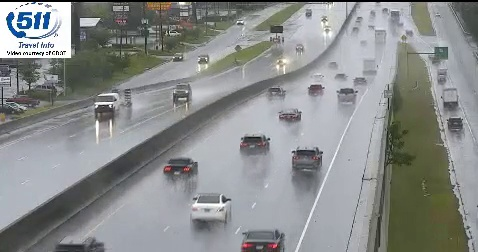car: (241, 229, 286, 252), (190, 195, 231, 220), (291, 146, 322, 170), (164, 158, 198, 179), (240, 135, 269, 157), (278, 108, 301, 122), (337, 89, 357, 103)
